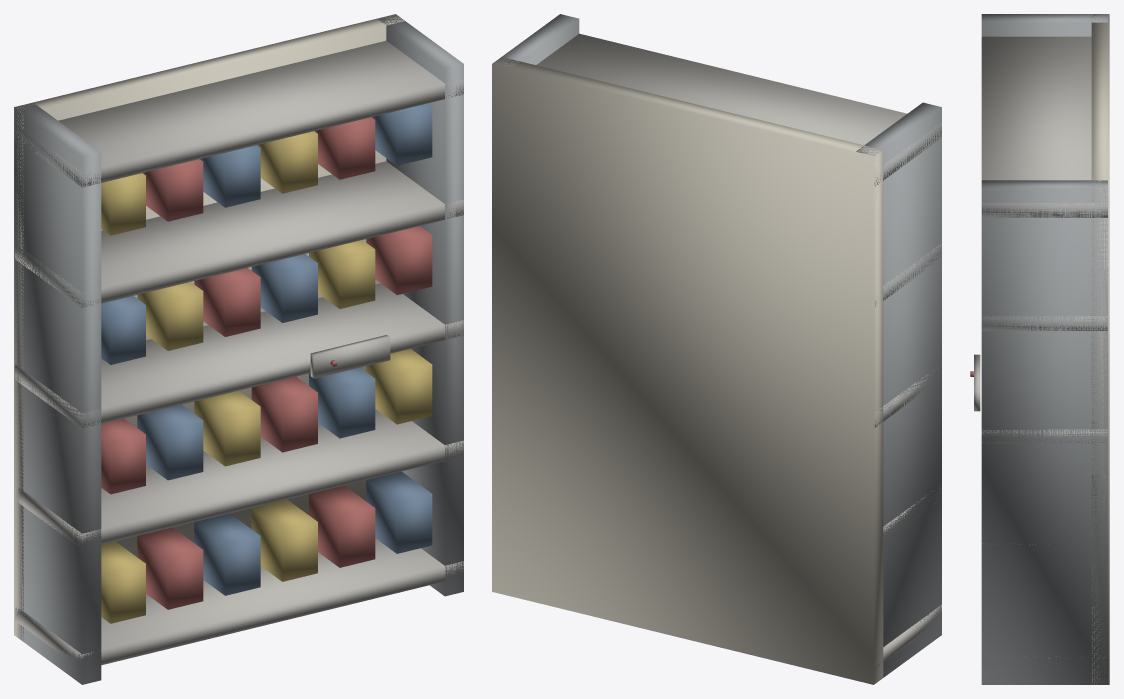
File: pharmacy_shelf__deep.glb
3 views of the same model, side by side, from view 1: azimuth 30°, elevation 25°; view 2: azimuth 150°, elevation 25°; view 3: azimuth 270°, elevation 25° (orthographic). The views are drawn at different scales.
Visible parts, largest first — view 1: world; view 2: world; view 3: world.
Part boxes in pixels (left/top/right/bottom): world: left=14, top=14, right=463, bottom=684; world: left=492, top=14, right=941, bottom=684; world: left=970, top=14, right=1109, bottom=684.
Size of the model in its own units: 1.4 by 1.85 by 0.4709.
